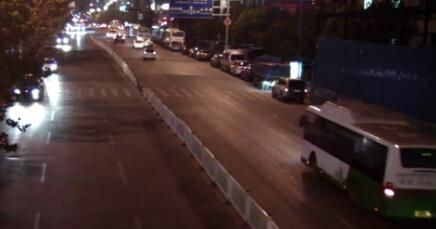bus: (296, 95, 432, 220), (157, 27, 185, 51), (149, 24, 165, 44)
car: (251, 52, 291, 90), (13, 73, 44, 104), (272, 76, 307, 103), (219, 49, 249, 71), (228, 57, 249, 76), (40, 56, 58, 74), (54, 31, 70, 46), (209, 52, 224, 67), (193, 47, 209, 60), (112, 30, 127, 43), (104, 27, 118, 40), (132, 36, 145, 49), (124, 25, 137, 38), (142, 47, 155, 59), (187, 46, 196, 59), (143, 38, 153, 48)
